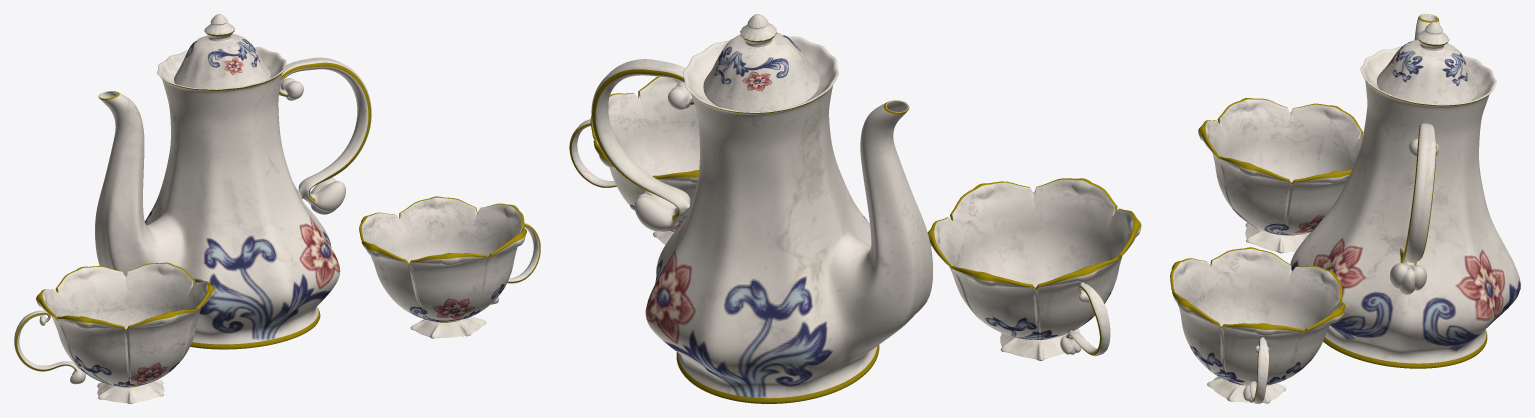
Rendered from obj_traditional_tea_set_07573f.glb.
3 renders of one model, left to right at view 1: azimuth 30°, elevation 25°; view 2: azimuth 150°, elevation 25°; view 3: azimuth 270°, elevation 25°, orthographic. The views are drawn at different scales.
Parts seen in each view (by area): view 1: obj_traditional_tea_set_07573f; view 2: obj_traditional_tea_set_07573f; view 3: obj_traditional_tea_set_07573f.
Part boxes in pixels (bbox=[...]): obj_traditional_tea_set_07573f: bbox=[14, 14, 540, 403]; obj_traditional_tea_set_07573f: bbox=[569, 14, 1141, 403]; obj_traditional_tea_set_07573f: bbox=[1170, 14, 1520, 403].
Size of the model in its own units: 0.3 by 0.1781 by 0.1787.
4 materials, 3 textured.
